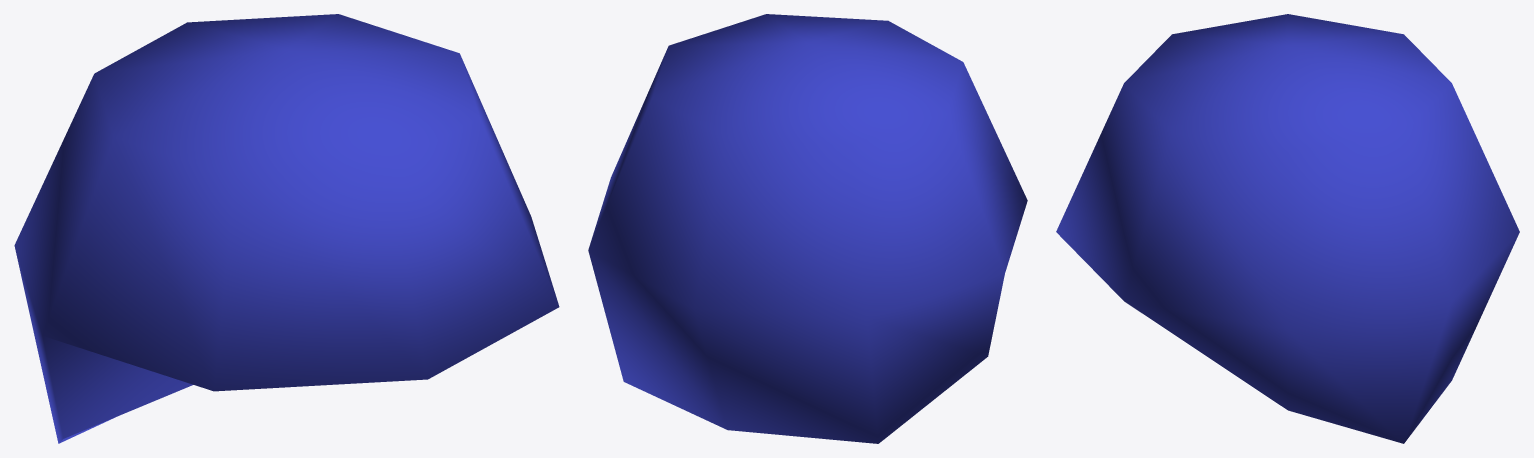
The model's file is casque.fbx.
3 views of the same model, side by side, from view 1: azimuth 30°, elevation 25°; view 2: azimuth 150°, elevation 25°; view 3: azimuth 270°, elevation 25° (orthographic). The views are drawn at different scales.
Parts seen in each view (by area): view 1: Casque; view 2: Casque; view 3: Casque.
Part boxes in pixels (x1,y1,x2,y2): Casque: (14,14,559,443); Casque: (588,14,1027,443); Casque: (1056,14,1519,443).
Size of the model in its own units: 0.4448 by 0.354 by 0.4448.
1 material, 1 textured.
